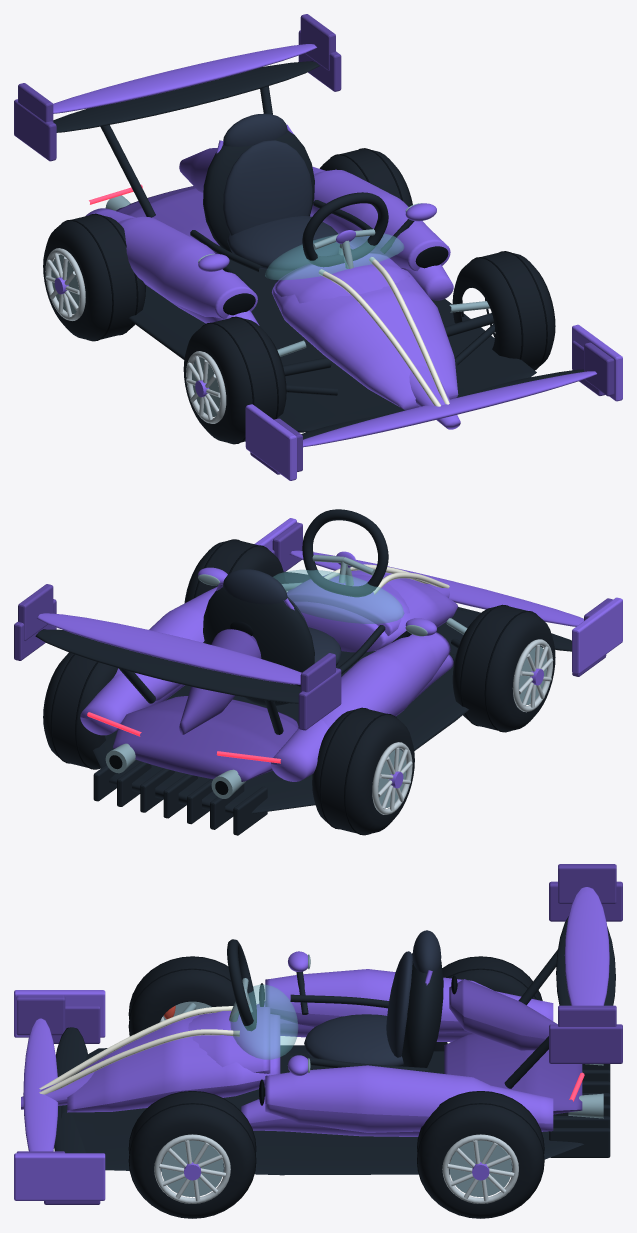
The model's file is hyper.glb.
3 renders of one model, top to bottom at view 1: azimuth 30°, elevation 25°; view 2: azimuth 150°, elevation 25°; view 3: azimuth 270°, elevation 25°, orthographic. The views are drawn at different scales.
Parts seen in each view (by area): view 1: Chassis_kart-hyper-paint, Chassis_kart-hyper-carbon, Chassis_kart-hyper-seat, Chassis_kart-hyper-deep-paint, Wheel_RL, Wheel_FL, Wheel_FR, Chassis, Steering, Chassis_kart-hyper-livery, Wheel_RR, Wheel_RL_kart-hyper-forged-rim (+4 smaller); view 2: Chassis_kart-hyper-paint, Chassis_kart-hyper-carbon, Chassis_kart-hyper-deep-paint, Wheel_RL, Wheel_FL, Wheel_RR, Chassis, Steering, Wheel_FR, Chassis_kart-hyper-seat, Chassis_kart-hyper-titanium, Wheel_RL_kart-hyper-forged-rim (+8 smaller); view 3: Chassis_kart-hyper-paint, Chassis_kart-hyper-carbon, Chassis_kart-hyper-deep-paint, Wheel_RR, Wheel_FR, Chassis_kart-hyper-seat, Wheel_FL, Chassis, Chassis_kart-hyper-livery, Wheel_RR_kart-hyper-forged-rim, Wheel_FR_kart-hyper-forged-rim, Wheel_RL (+4 smaller).
Boxes of the visible parts, box(x1,y1,x2,y2) form: Chassis_kart-hyper-paint: box(53, 44, 622, 480); Chassis_kart-hyper-carbon: box(53, 61, 583, 439); Chassis_kart-hyper-seat: box(223, 113, 339, 271); Chassis_kart-hyper-deep-paint: box(14, 14, 614, 474); Wheel_RL: box(43, 214, 145, 340); Wheel_FL: box(183, 317, 286, 443); Wheel_FR: box(452, 252, 555, 369); Chassis: box(265, 233, 404, 280); Steering: box(302, 192, 388, 267); Chassis_kart-hyper-livery: box(319, 257, 449, 406); Wheel_RR: box(319, 149, 412, 206); Wheel_RL_kart-hyper-forged-rim: box(45, 248, 85, 320); Chassis_kart-hyper-paint: box(37, 518, 622, 781); Chassis_kart-hyper-carbon: box(35, 571, 571, 835); Chassis_kart-hyper-deep-paint: box(14, 522, 612, 781); Wheel_RL: box(312, 708, 414, 834); Wheel_FL: box(452, 605, 555, 731); Wheel_RR: box(43, 652, 117, 769); Chassis: box(273, 569, 404, 623); Steering: box(302, 509, 388, 597); Wheel_FR: box(184, 540, 285, 603); Chassis_kart-hyper-seat: box(223, 569, 341, 665); Chassis_kart-hyper-titanium: box(105, 565, 467, 798); Wheel_RL_kart-hyper-forged-rim: box(372, 742, 412, 814); Chassis_kart-hyper-paint: box(14, 887, 609, 1200); Chassis_kart-hyper-carbon: box(54, 916, 615, 1175); Chassis_kart-hyper-deep-paint: box(16, 864, 622, 1204); Wheel_RR: box(417, 1091, 543, 1218); Wheel_FR: box(129, 1091, 255, 1218); Chassis_kart-hyper-seat: box(304, 930, 441, 1066); Wheel_FL: box(129, 957, 235, 1035); Chassis: box(230, 984, 298, 1059); Chassis_kart-hyper-livery: box(39, 1006, 239, 1094); Wheel_RR_kart-hyper-forged-rim: box(442, 1134, 518, 1203); Wheel_FR_kart-hyper-forged-rim: box(154, 1134, 230, 1203); Wheel_RL: box(434, 957, 541, 1051).
Size of the model in its own units: 3.21 by 1.85 by 4.86.
